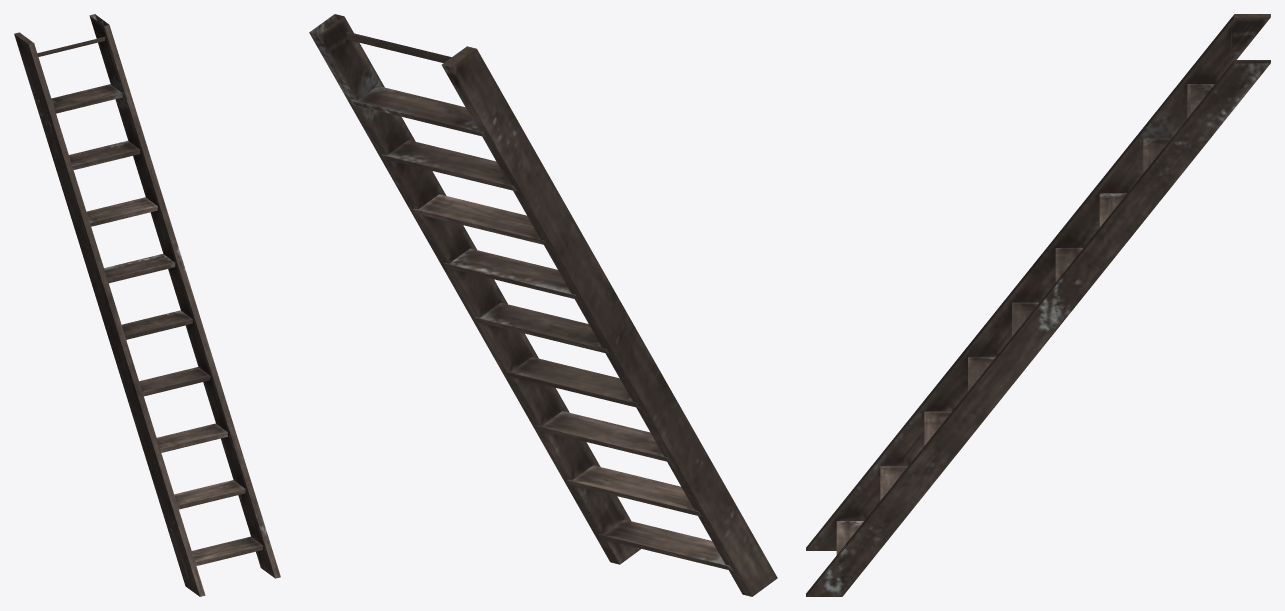
File: watch_stair.gltf
The picture shows the model from 3 angles, left to right: view 1: azimuth 30°, elevation 25°; view 2: azimuth 150°, elevation 25°; view 3: azimuth 270°, elevation 25°; orthographic projection. The views are drawn at different scales.
Visible parts, largest first — view 1: watchtower_stairs; view 2: watchtower_stairs; view 3: watchtower_stairs.
Boxes of the visible parts, x1,y1,x2,y2 form: watchtower_stairs: (14, 14, 280, 596); watchtower_stairs: (309, 14, 777, 596); watchtower_stairs: (806, 14, 1270, 596).
Size of the model in its own units: 0.5256 by 2.65 by 2.09.
Materials: 1 (1 with a texture image).
